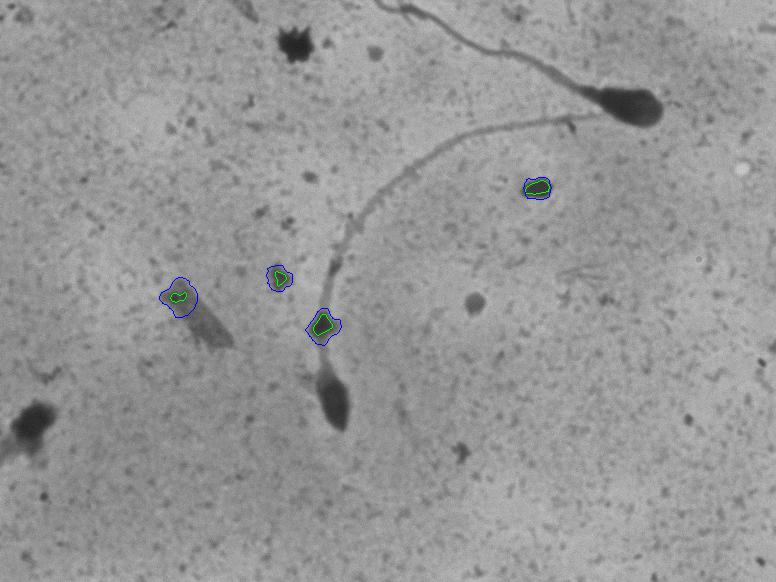Abnormal: (284, 91, 584, 451), (378, 25, 691, 155)
